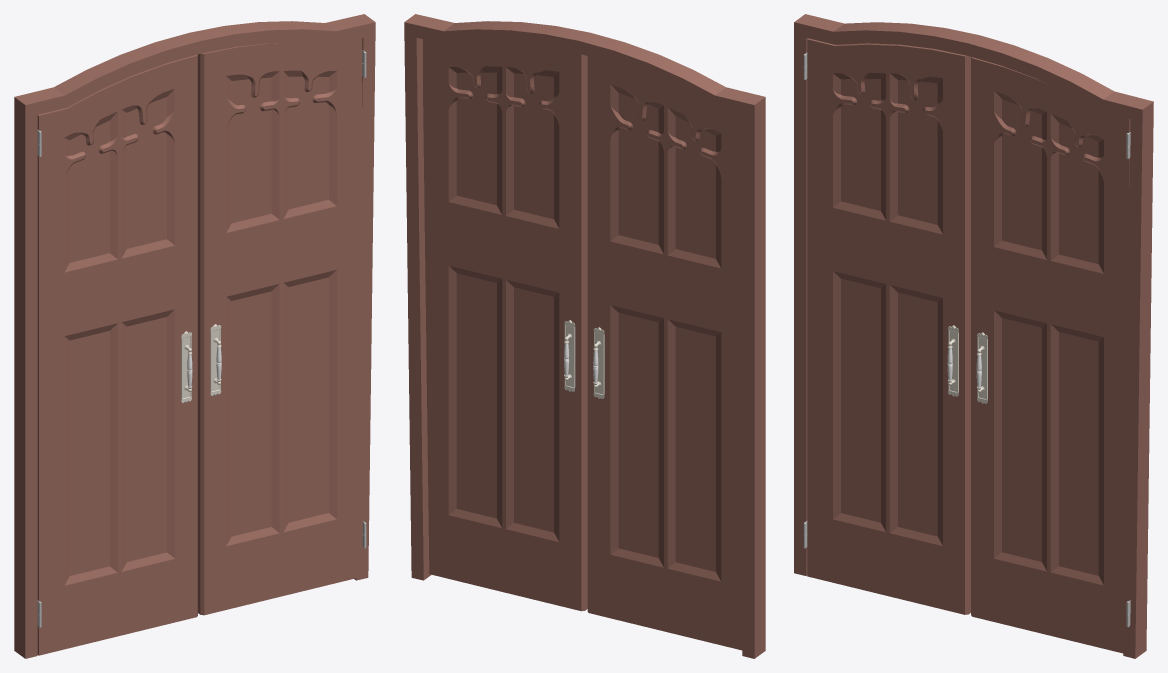
The model's file is 373_両開きドア.glb.
3 renders of one model, left to right at view 1: azimuth 30°, elevation 25°; view 2: azimuth 150°, elevation 25°; view 3: azimuth 330°, elevation 25°, orthographic.
Visible parts, largest first — view 1: ドア左, ドア右, ドア枠; view 2: ドア左, ドア右, ドア枠; view 3: ドア右, ドア左, ドア枠.
Part boxes in pixels (x1,y1,x2,y2): ドア左: (198, 38, 366, 615); ドア右: (37, 54, 197, 655); ドア枠: (14, 14, 375, 658); ドア左: (423, 39, 587, 611); ドア右: (587, 56, 742, 650); ドア枠: (404, 14, 765, 658); ドア右: (803, 38, 970, 614); ドア左: (971, 57, 1130, 653); ドア枠: (794, 14, 1153, 658).
Size of the model in its own units: 1.44 by 2.27 by 0.1162.
